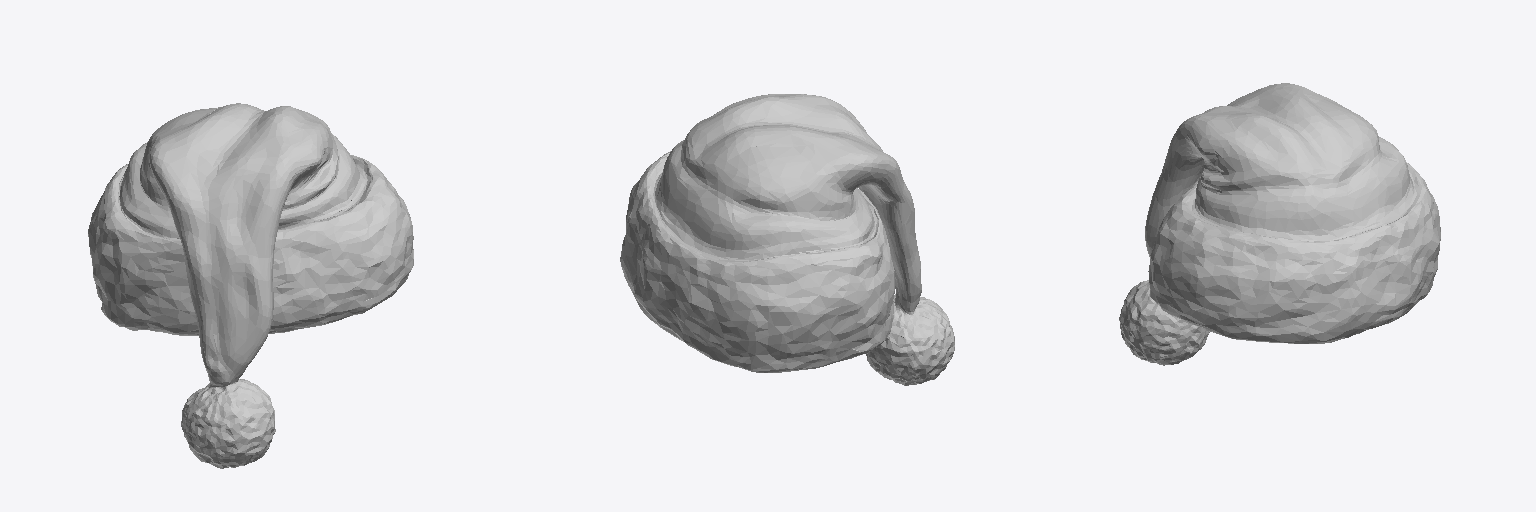
Rendered from hat.obj.
The picture shows the model from 3 angles: view 1: azimuth 30°, elevation 25°; view 2: azimuth 150°, elevation 25°; view 3: azimuth 270°, elevation 25°; orthographic projection.
Visible parts, largest first — view 1: santa_hat(BLENDER); view 2: santa_hat(BLENDER); view 3: santa_hat(BLENDER).
Part boxes in pixels (x1,y1,x2,y2): santa_hat(BLENDER): (88, 103, 413, 468); santa_hat(BLENDER): (620, 94, 954, 385); santa_hat(BLENDER): (1119, 83, 1440, 365).
Size of the model in its own units: 1.84 by 1.89 by 1.9.